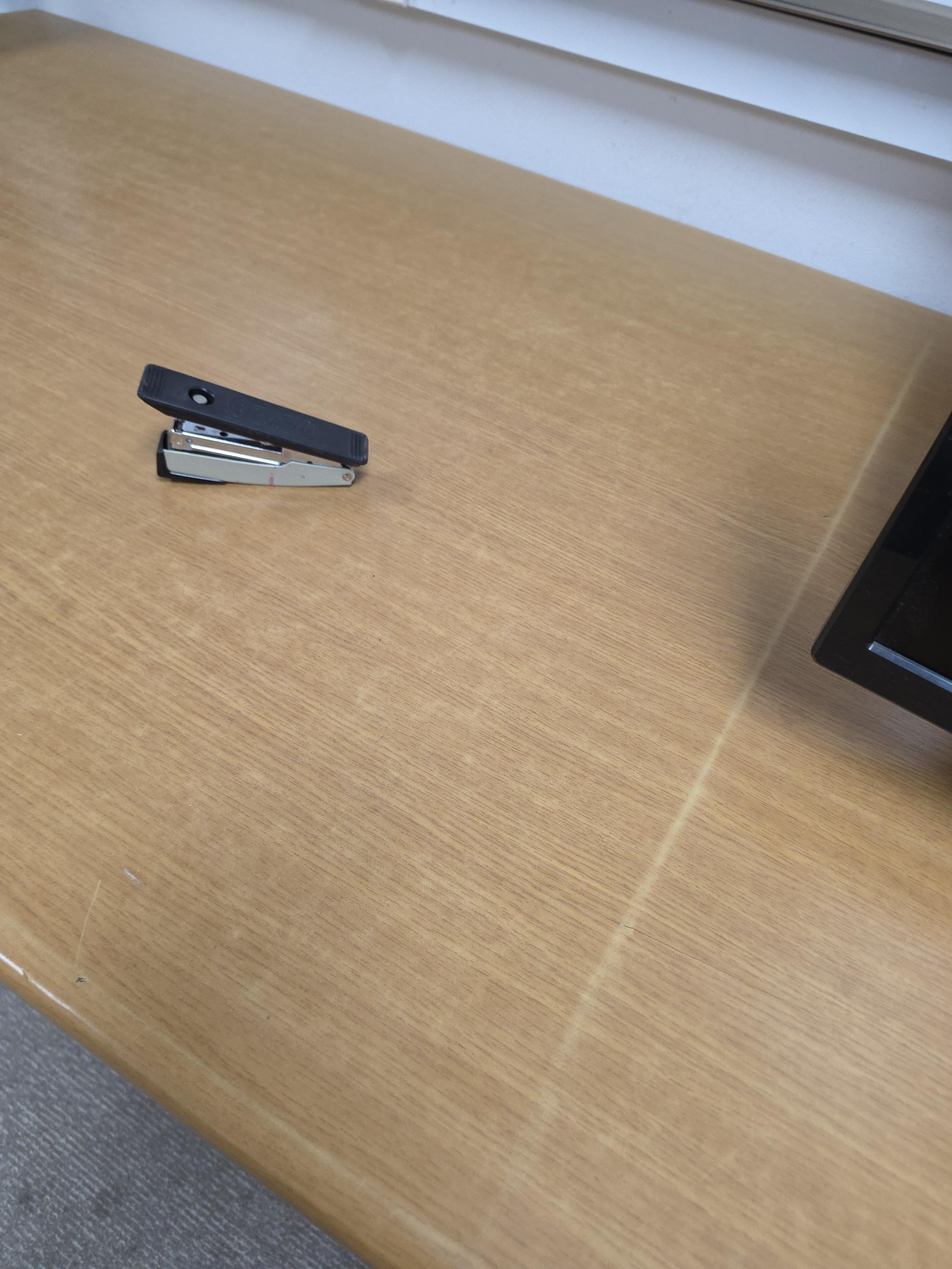stapler: (136, 363, 369, 489)
